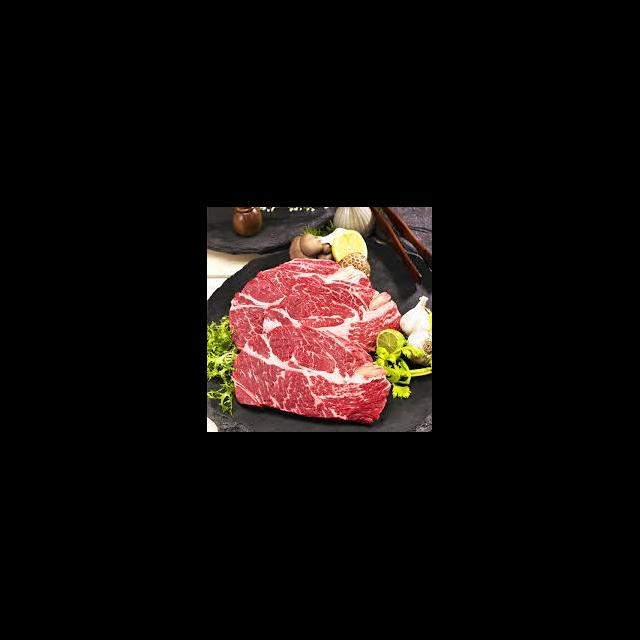beef: (236, 321, 388, 422), (232, 258, 401, 347)
